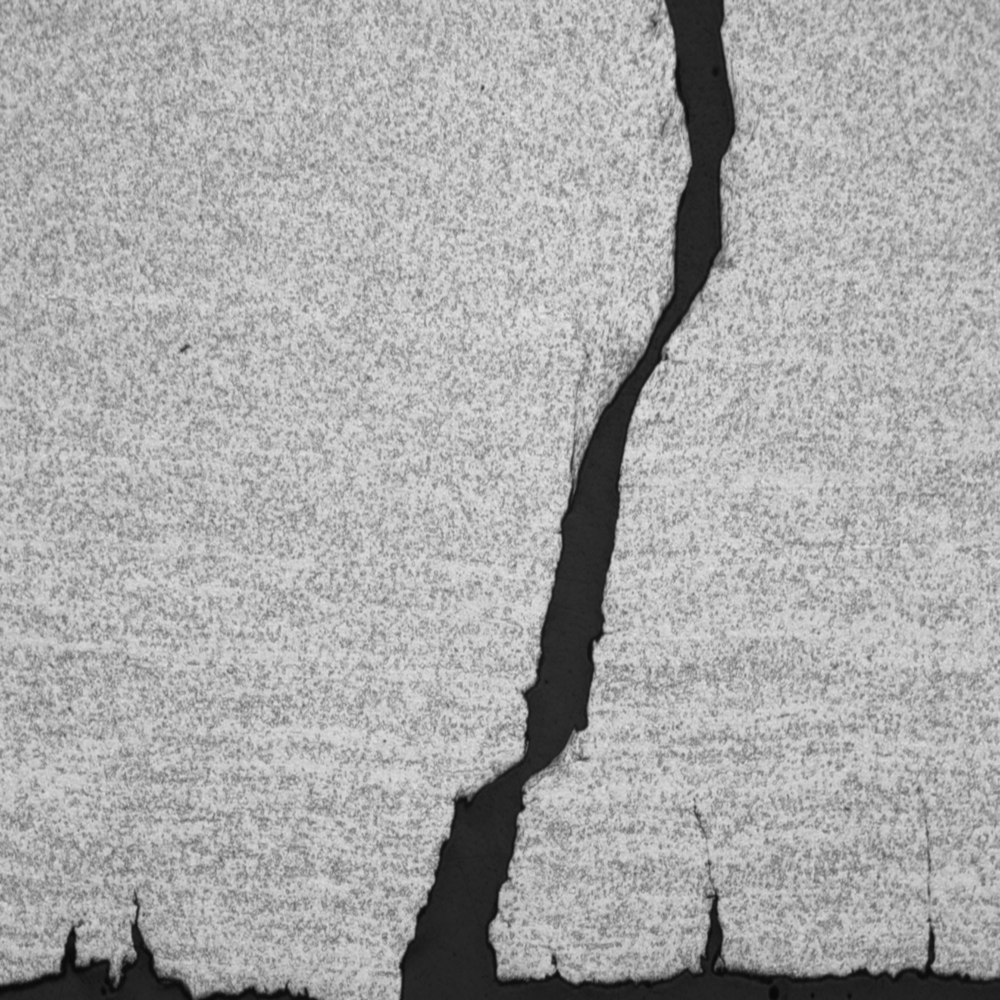crack: (377, 4, 746, 999), (878, 764, 949, 982), (38, 876, 172, 989), (674, 795, 737, 980), (532, 937, 573, 985)
